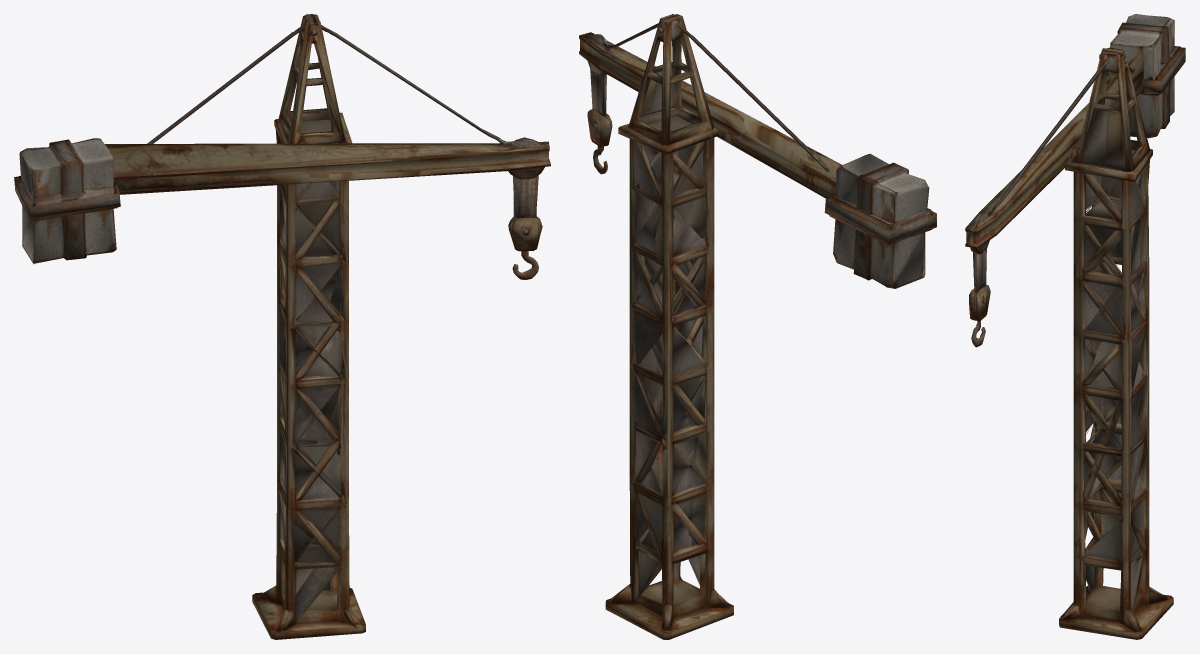
File: crane_swing.glb
3 renders of one model, left to right at view 1: azimuth 30°, elevation 25°; view 2: azimuth 150°, elevation 25°; view 3: azimuth 270°, elevation 25°, orthographic. The views are drawn at different scales.
Visible parts, largest first — view 1: tripo_node_2570f033-e5ab-4683-ac82-a3da962dea7b; view 2: tripo_node_2570f033-e5ab-4683-ac82-a3da962dea7b; view 3: tripo_node_2570f033-e5ab-4683-ac82-a3da962dea7b.
Part boxes in pixels (left/top/right/bottom): tripo_node_2570f033-e5ab-4683-ac82-a3da962dea7b: left=14, top=14, right=550, bottom=639; tripo_node_2570f033-e5ab-4683-ac82-a3da962dea7b: left=579, top=14, right=936, bottom=639; tripo_node_2570f033-e5ab-4683-ac82-a3da962dea7b: left=965, top=14, right=1185, bottom=639.
Bounding box in the file's own units: 0.7676 × 0.998 × 0.3535.
Materials: 1 (1 with a texture image).
